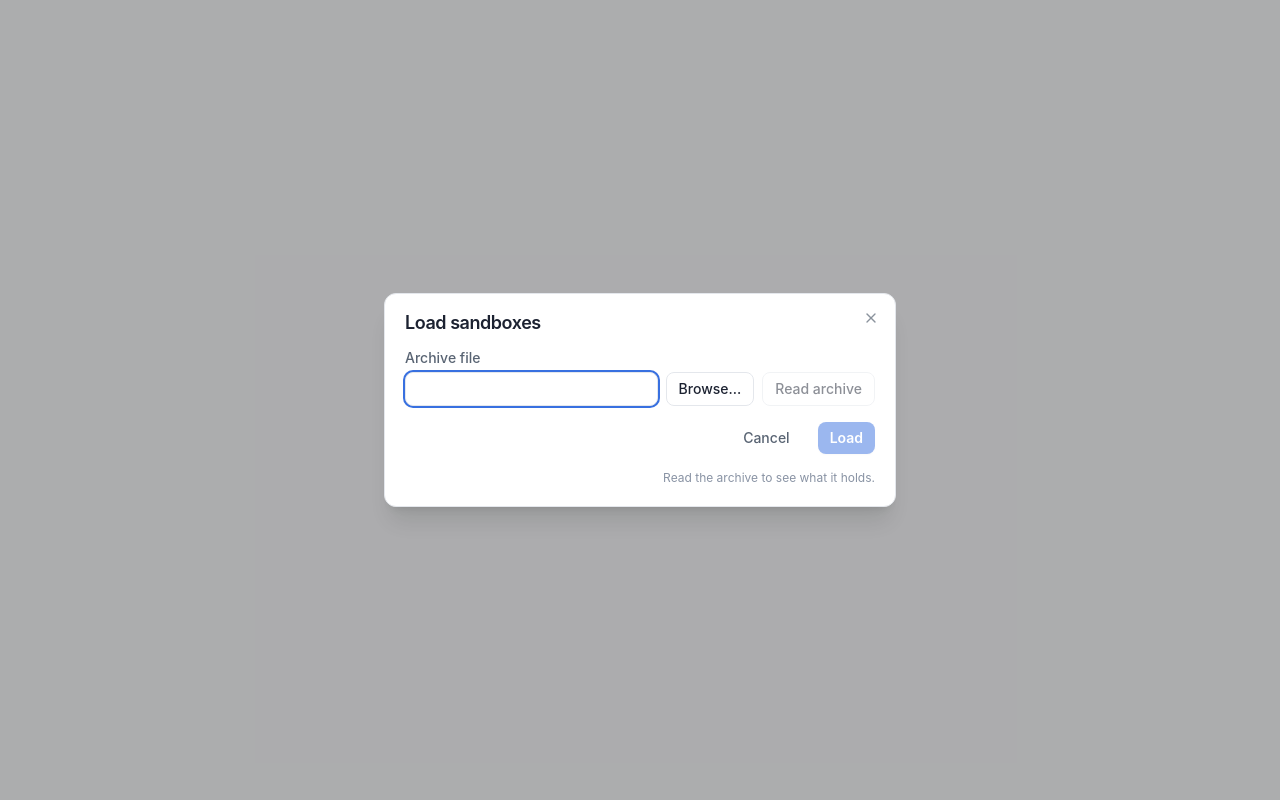
Test case: LoadArchive › picks the workspace folder with the directory dialog
Type "/in/a.izba" into the field labelled "Archive file" at coordinates (531, 389), box [405, 372, 658, 406]
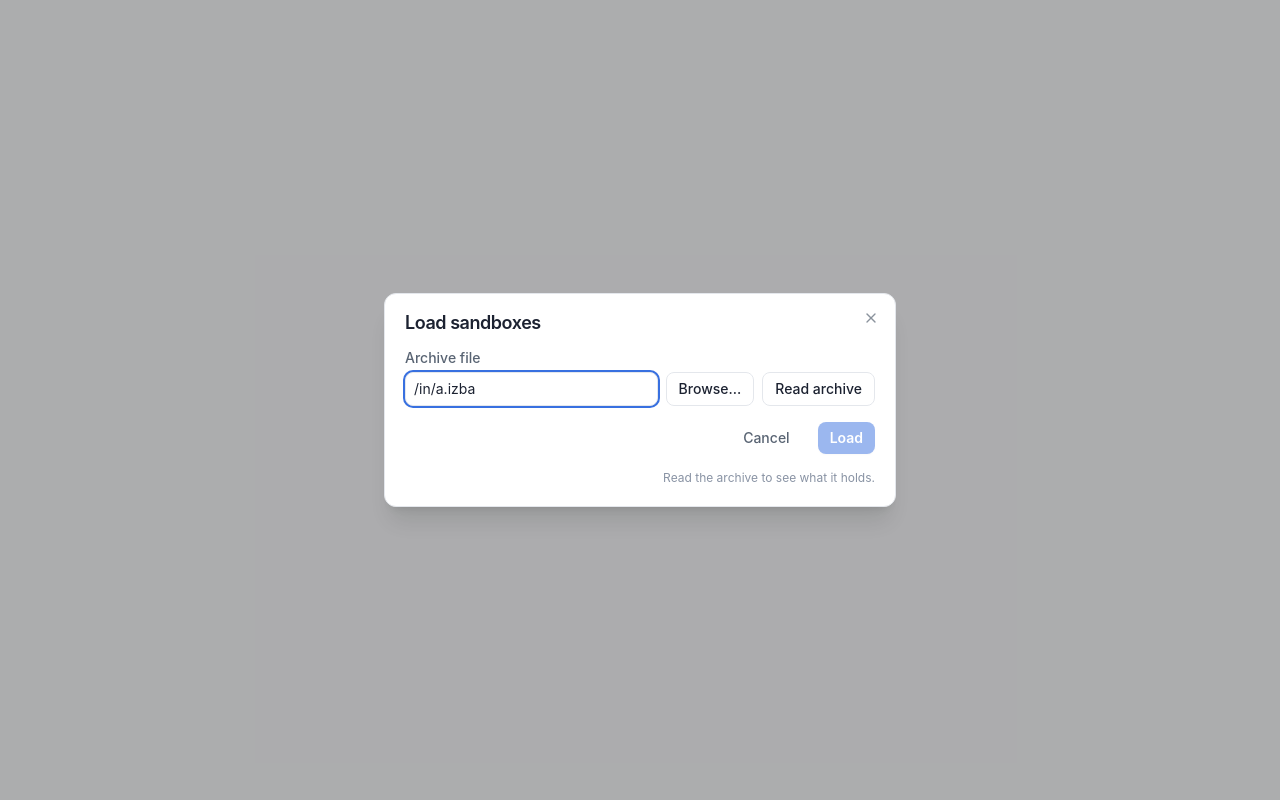
Click the button "Read archive" at coordinates (819, 389), box [762, 372, 875, 406]
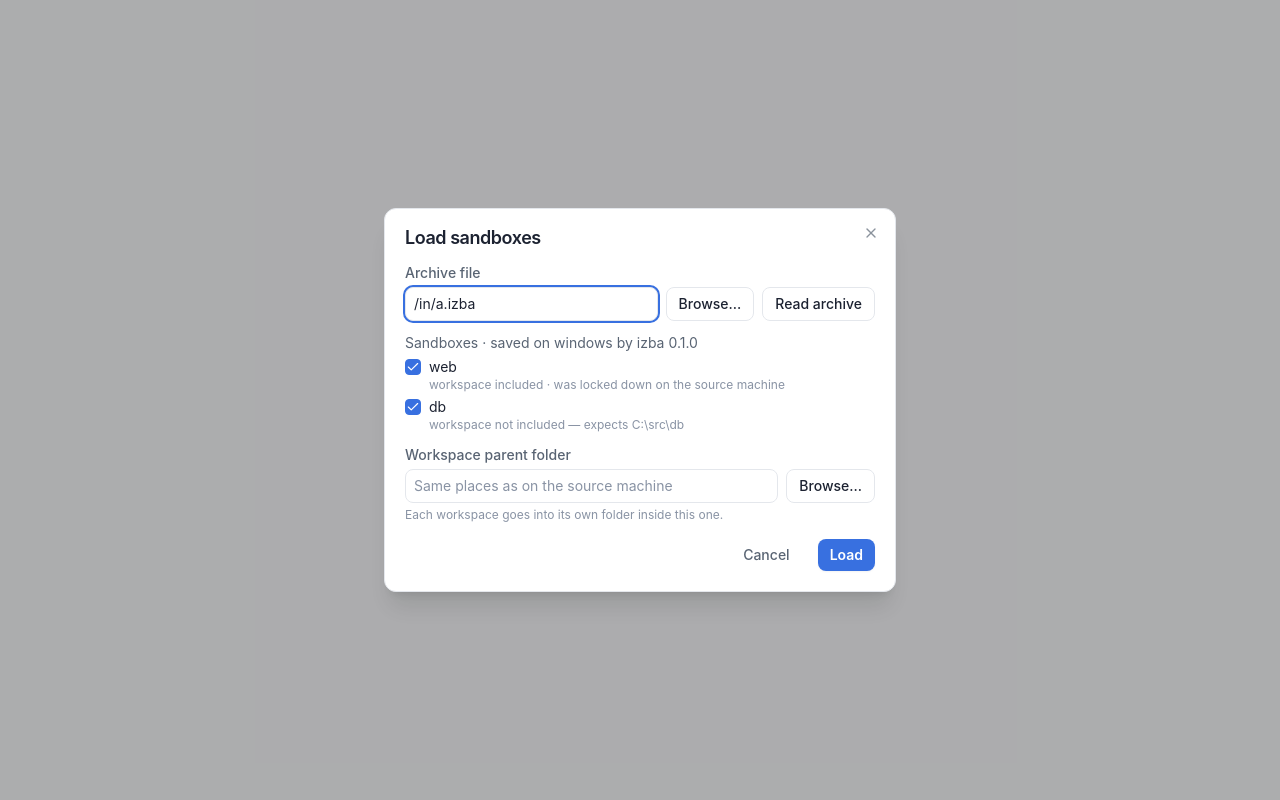
Expected: the checkbox named "Load web" is shown, [405, 359, 421, 375]
Click the checkbox named "Load db" at coordinates (413, 407), box [405, 399, 421, 415]
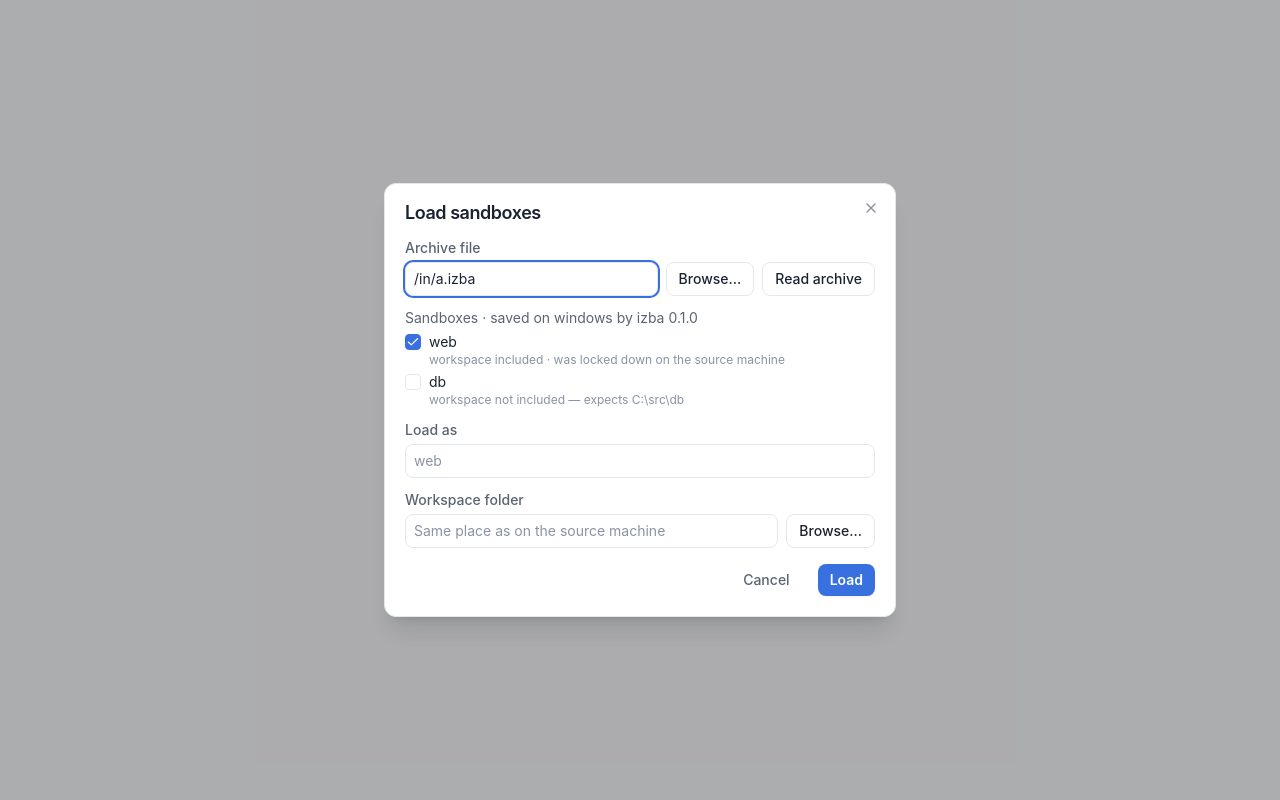
Click the button with aria-label "Browse for workspace folder" at coordinates (831, 531), box [786, 514, 875, 548]
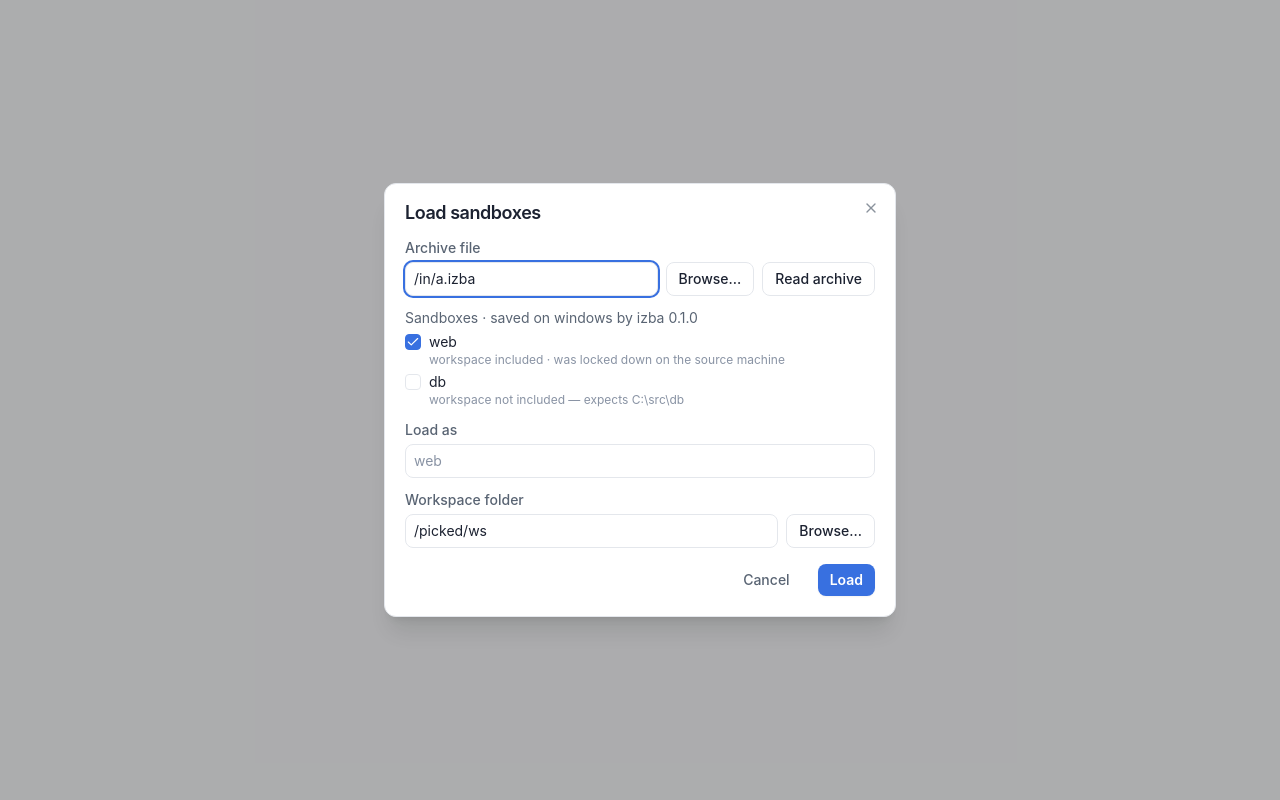
Expected: the field labelled "Workspace folder" holds "/picked/ws", [405, 514, 778, 548]
